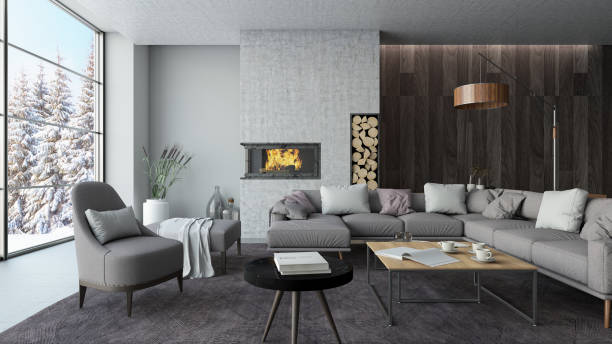chair: (69, 181, 184, 317), (148, 215, 243, 273)
floor lamp: (452, 50, 564, 190)
large plant: (137, 141, 192, 224)
sofa: (264, 182, 612, 304)
table: (365, 235, 540, 329), (243, 251, 355, 344)
